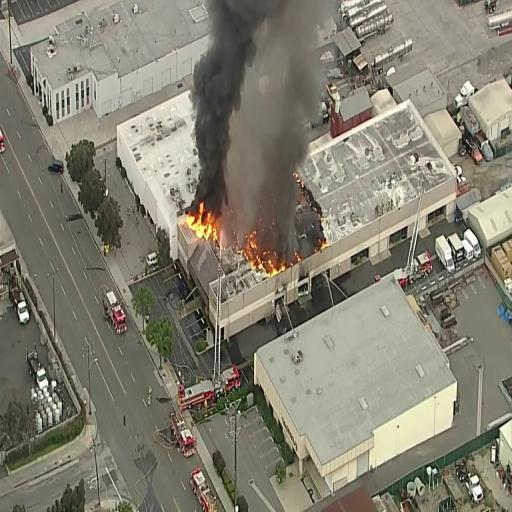fire: (187, 208, 217, 246)
smoke: (196, 4, 234, 198)
